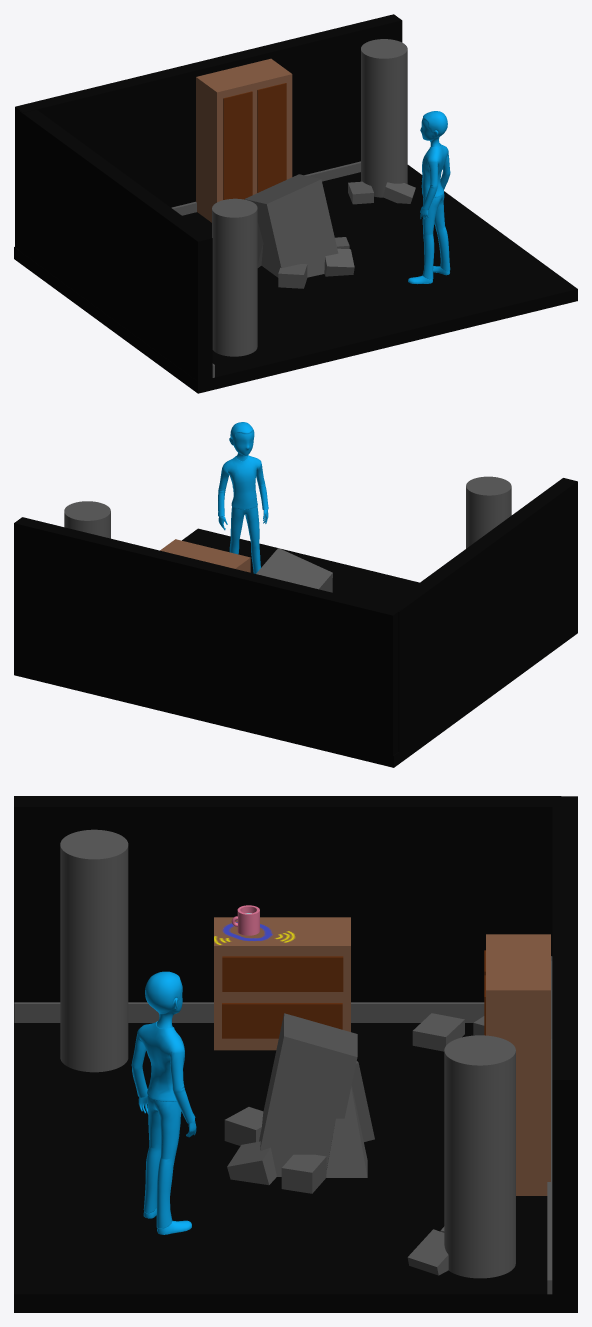
The model's file is Diorama.glb.
The picture shows the model from 3 angles, top to bottom: view 1: azimuth 30°, elevation 25°; view 2: azimuth 150°, elevation 25°; view 3: azimuth 270°, elevation 25°; orthographic projection. The views are drawn at different scales.
Visible parts, largest first — view 1: node_id5, node_id112, node_id52, node_id23, node_id29, node_id8, node_id56, node_id48, node_id32, node_id35, node_id26, node_id80 (+3 smaller); view 2: node_id52, node_id112, node_id5, node_id48, node_id23, node_id56, node_id8, node_id29; view 3: node_id5, node_id112, node_id8, node_id23, node_id52, node_id29, node_id56, node_id48, node_id100, node_id92, node_id41, node_id44 (+9 smaller).
Boxes of the visible parts, x1,y1,x2,y2 form: node_id5: (14, 165, 577, 393); node_id112: (19, 109, 212, 381); node_id52: (15, 14, 402, 249); node_id23: (212, 198, 257, 356); node_id29: (196, 58, 292, 222); node_id8: (361, 39, 407, 197); node_id56: (244, 174, 338, 277); node_id48: (408, 111, 450, 283); node_id32: (223, 91, 252, 199); node_id35: (257, 83, 286, 192); node_id26: (171, 161, 360, 215); node_id80: (324, 248, 354, 276); node_id52: (14, 517, 401, 755); node_id112: (388, 478, 577, 751); node_id5: (14, 528, 577, 767); node_id48: (218, 422, 268, 573); node_id23: (466, 476, 511, 548); node_id56: (256, 548, 332, 592); node_id8: (64, 501, 110, 538); node_id29: (160, 539, 250, 572); node_id5: (14, 1021, 577, 1312); node_id112: (14, 796, 560, 1020); node_id8: (444, 1035, 515, 1278); node_id23: (60, 829, 128, 1072); node_id52: (552, 796, 577, 1294); node_id29: (486, 934, 550, 1195); node_id56: (259, 1013, 357, 1176); node_id48: (131, 971, 196, 1234); node_id100: (214, 917, 350, 1050); node_id92: (14, 1002, 484, 1022); node_id41: (222, 956, 343, 991); node_id44: (222, 1003, 342, 1038).
Bounding box in the file's own units: 0.512 × 0.2403 × 0.4296.
Materials: 31 (31 with a texture image).
